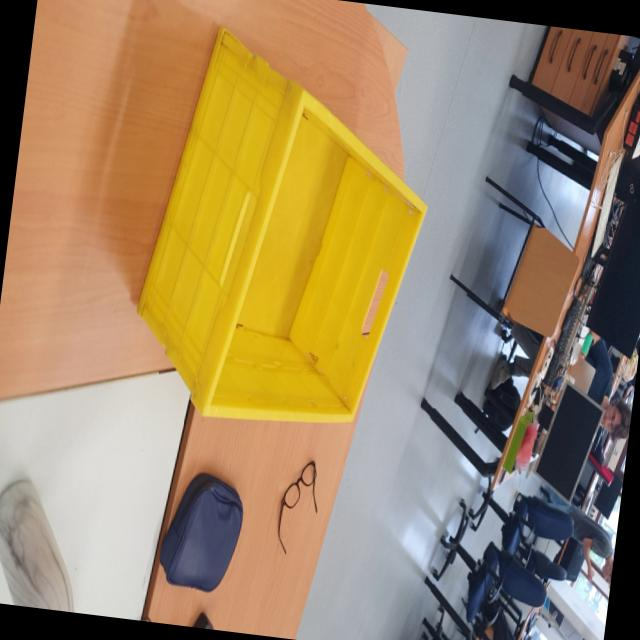box: (107, 15, 474, 448)
